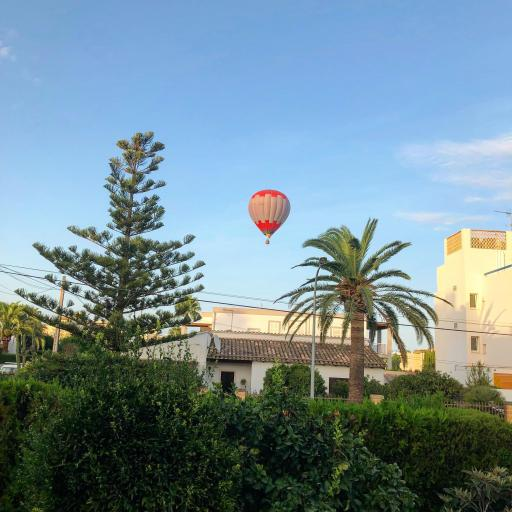hot air ballon: (247, 189, 291, 244)
